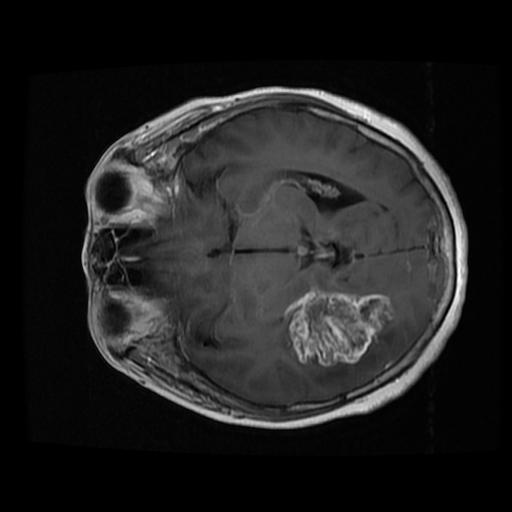glioma: (285, 290, 392, 367)
